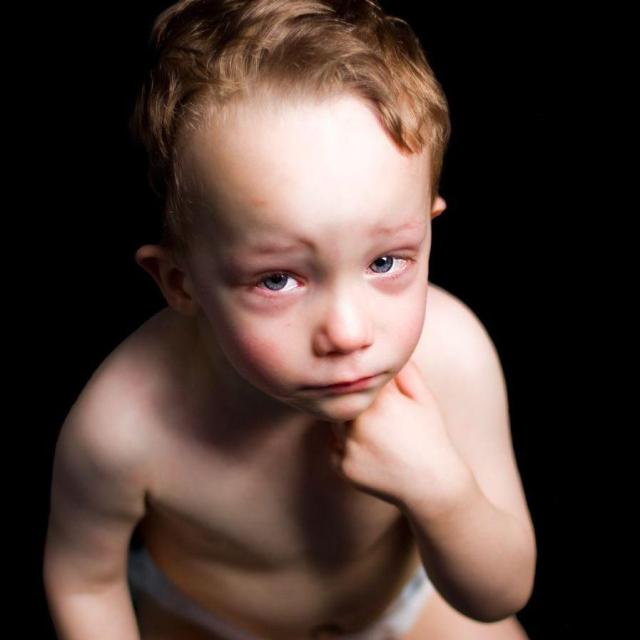no-glass: (239, 252, 412, 298)
